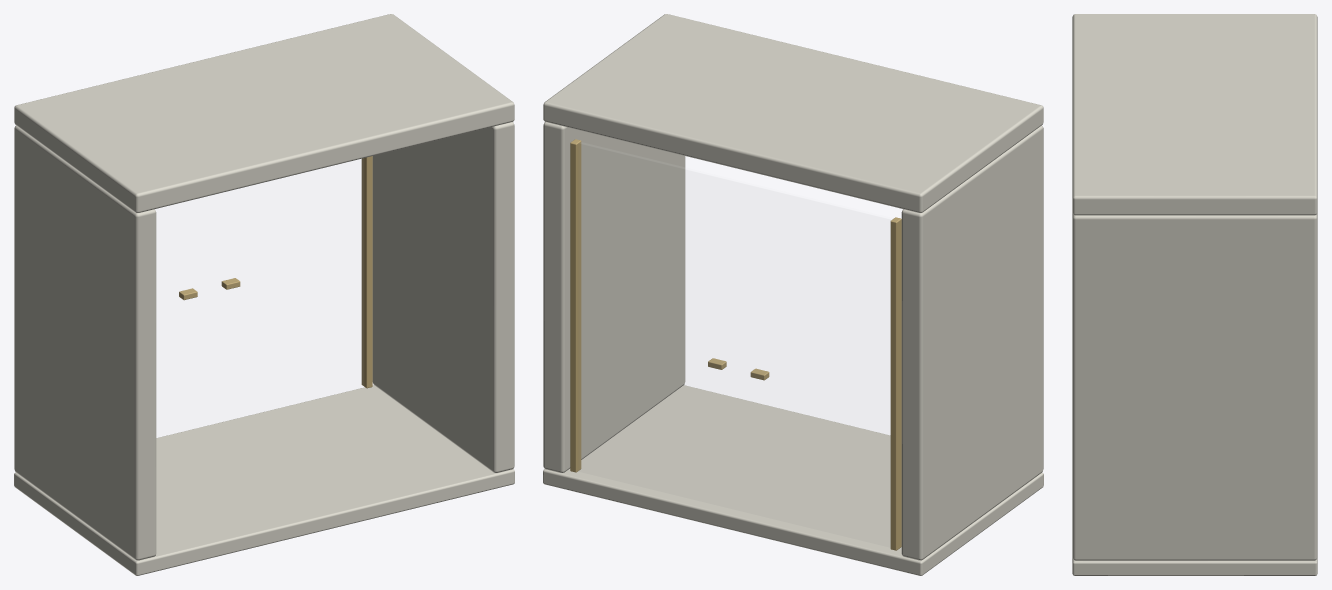
File: city-courthouse-and-records-office-city-courthouse-and-908e832c__30955.glb
3 renders of one model, left to right at view 1: azimuth 30°, elevation 25°; view 2: azimuth 150°, elevation 25°; view 3: azimuth 270°, elevation 25°, orthographic.
Parts seen in each view (by area): view 1: city-courthouse-and-records-office-public-vestibule; view 2: city-courthouse-and-records-office-public-vestibule; view 3: city-courthouse-and-records-office-public-vestibule.
Part boxes in pixels (bbox=[...]): city-courthouse-and-records-office-public-vestibule: bbox=[14, 14, 514, 575]; city-courthouse-and-records-office-public-vestibule: bbox=[543, 14, 1043, 575]; city-courthouse-and-records-office-public-vestibule: bbox=[1072, 14, 1317, 575].
Size of the model in its own units: 3.2 by 3.08 by 1.8.
